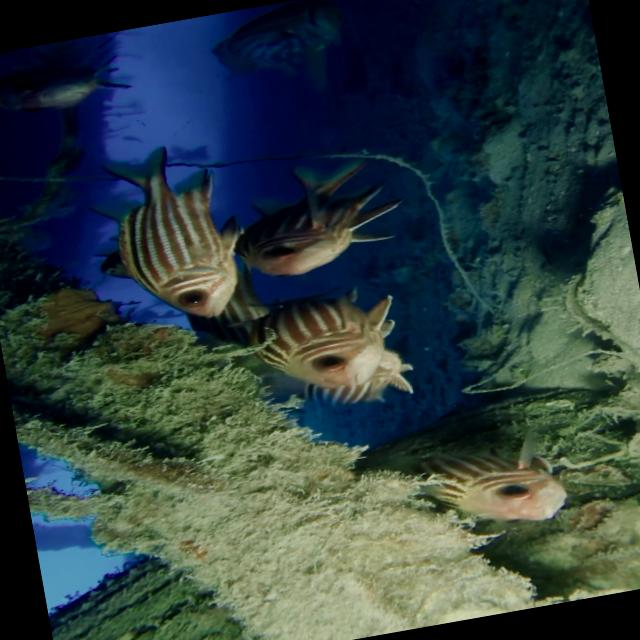Asker Baligi: (76, 135, 254, 337), (213, 144, 414, 304), (236, 276, 419, 424), (404, 424, 574, 544)
